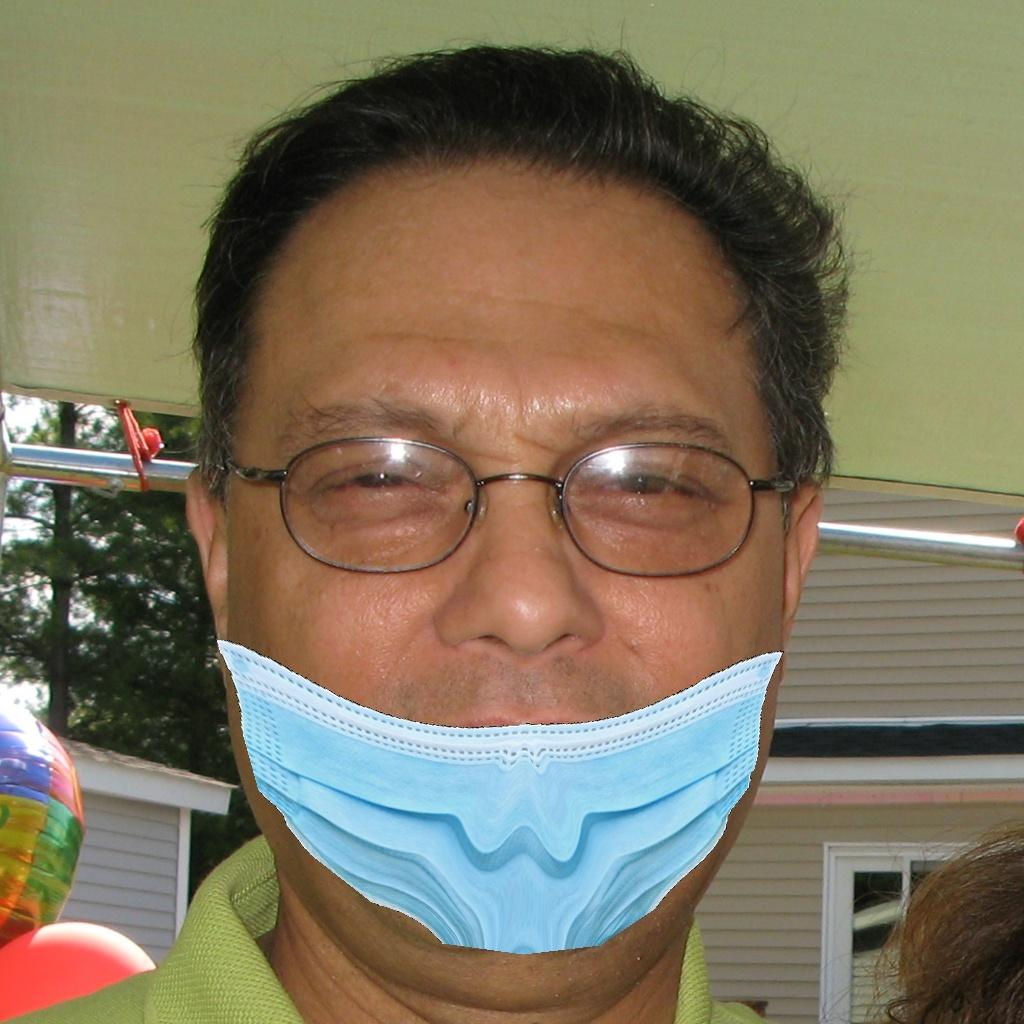Máscara Incorreta: (235, 242, 795, 937)
